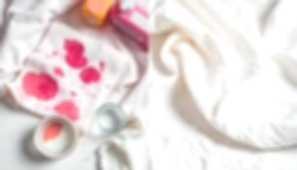lipstick: (52, 38, 91, 76), (26, 68, 67, 102), (50, 96, 86, 125), (74, 59, 107, 89)
